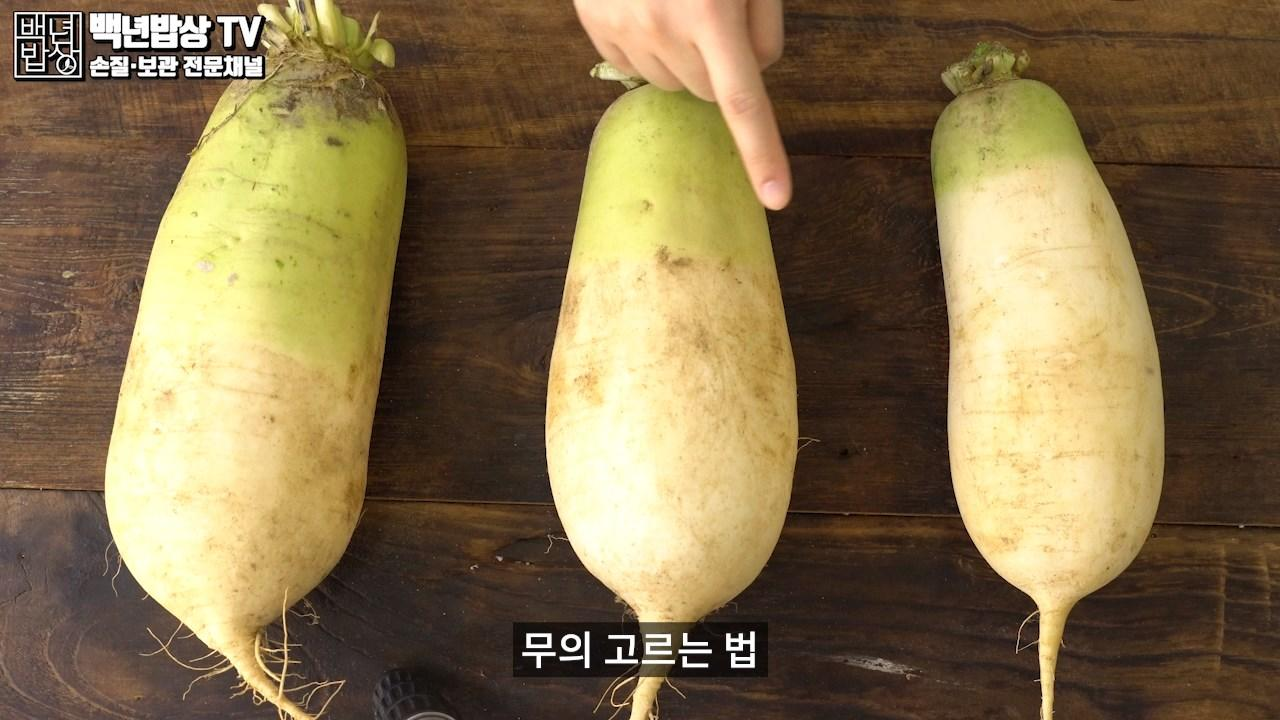radish: (198, 35, 828, 720), (1012, 55, 1280, 711), (1023, 37, 1280, 716)
